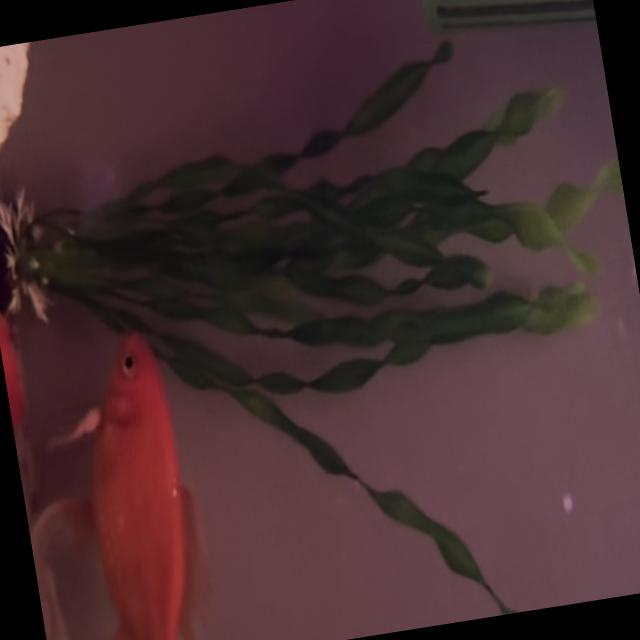fish: (3, 324, 222, 640)
